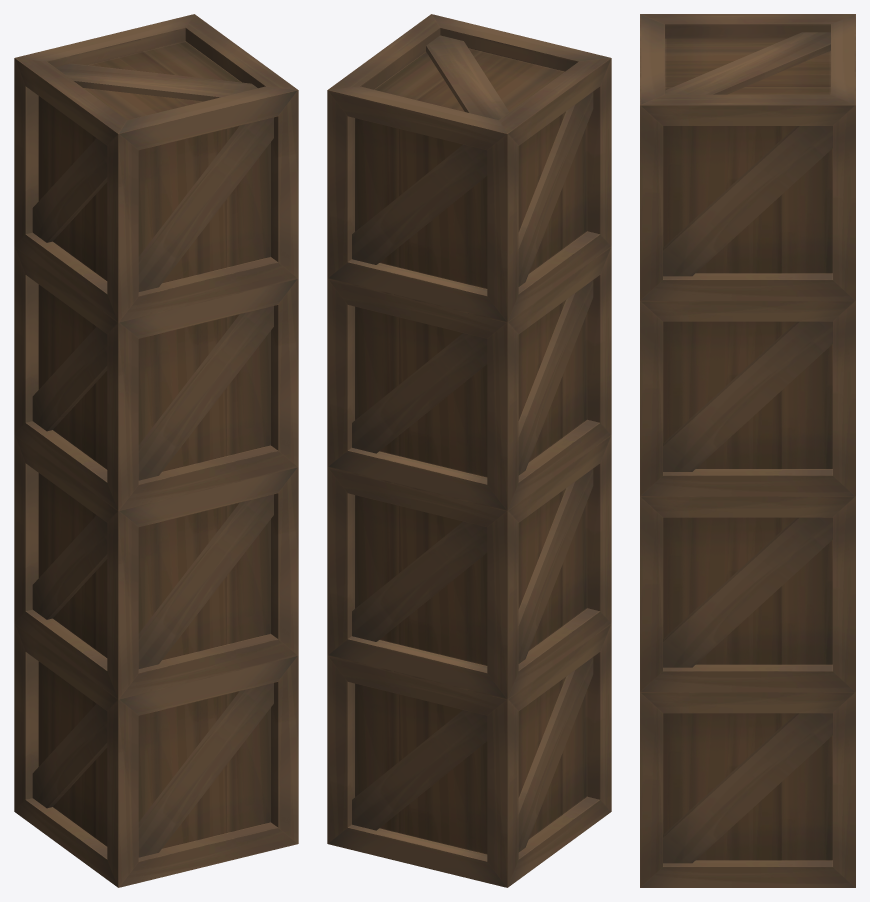
The model's file is fourBoxes.fbx.
The picture shows the model from 3 angles, left to right: view 1: azimuth 30°, elevation 25°; view 2: azimuth 150°, elevation 25°; view 3: azimuth 270°, elevation 25°; orthographic projection. The views are drawn at different scales.
Visible parts, largest first — view 1: fourBoxes; view 2: fourBoxes; view 3: fourBoxes.
Boxes of the visible parts, x1=… form: fourBoxes: x1=14, y1=14, x2=298, y2=887; fourBoxes: x1=327, y1=14, x2=611, y2=887; fourBoxes: x1=640, y1=14, x2=855, y2=887.
Bounding box in the file's own units: 212 × 846 × 212.
